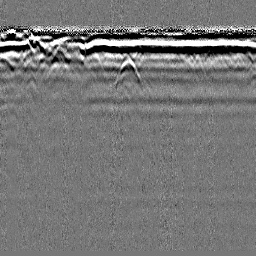cavity: (114, 52, 141, 86)
